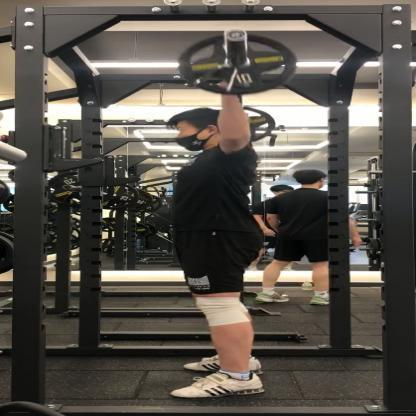barbell: (180, 28, 296, 93), (296, 94, 299, 96)
